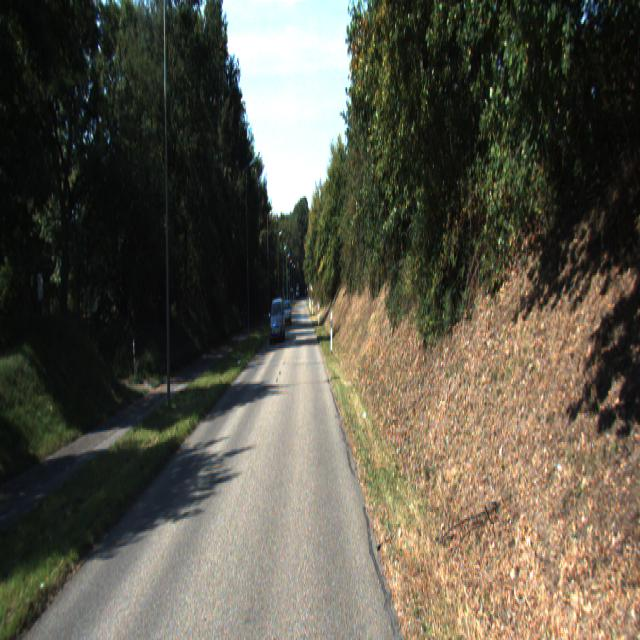Car: (269, 298, 285, 344), (282, 299, 292, 326)
